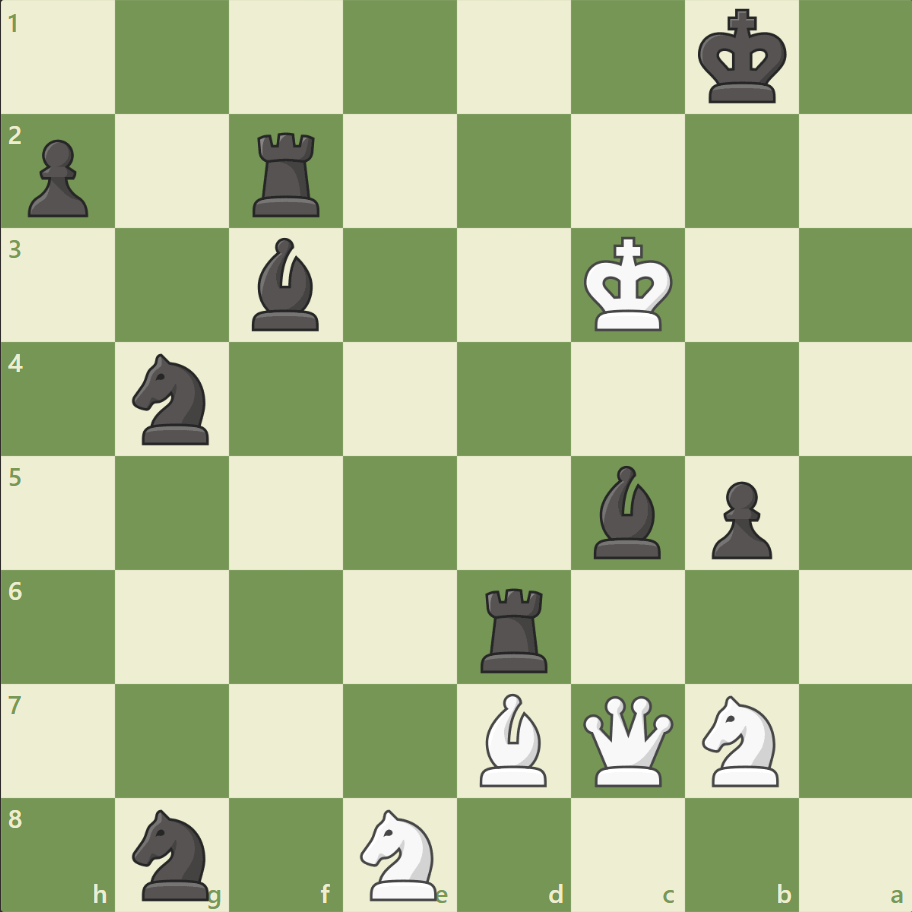B: (471, 687, 555, 790)
K: (579, 231, 679, 339)
N: (351, 802, 449, 904), (692, 688, 789, 791)
Q: (578, 690, 677, 789)
b: (585, 460, 669, 563), (244, 233, 328, 336)
k: (692, 4, 792, 112)
n: (124, 802, 222, 904), (124, 348, 222, 450)
p: (701, 473, 776, 564), (20, 132, 95, 223)
r: (473, 579, 556, 676), (246, 125, 329, 222)
